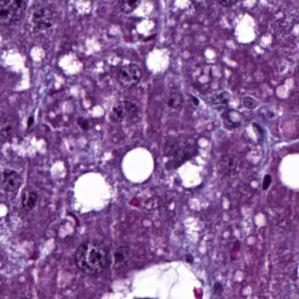ballooning: (99, 258, 209, 297)
